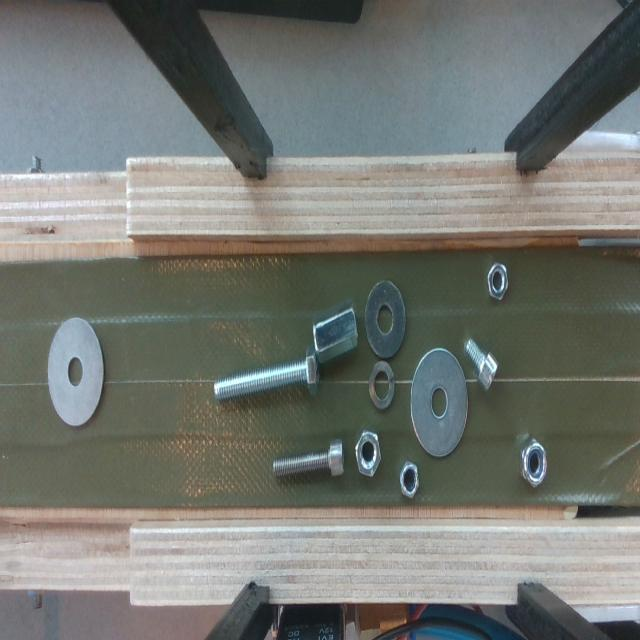Bolt: (212, 347, 324, 409), (266, 439, 352, 483), (460, 328, 500, 394)
Nut: (308, 299, 366, 365), (514, 432, 548, 490), (353, 428, 385, 482), (483, 256, 513, 303), (400, 460, 421, 500)
Washer: (403, 342, 481, 462), (46, 309, 109, 428), (358, 276, 416, 361), (364, 358, 398, 410)
